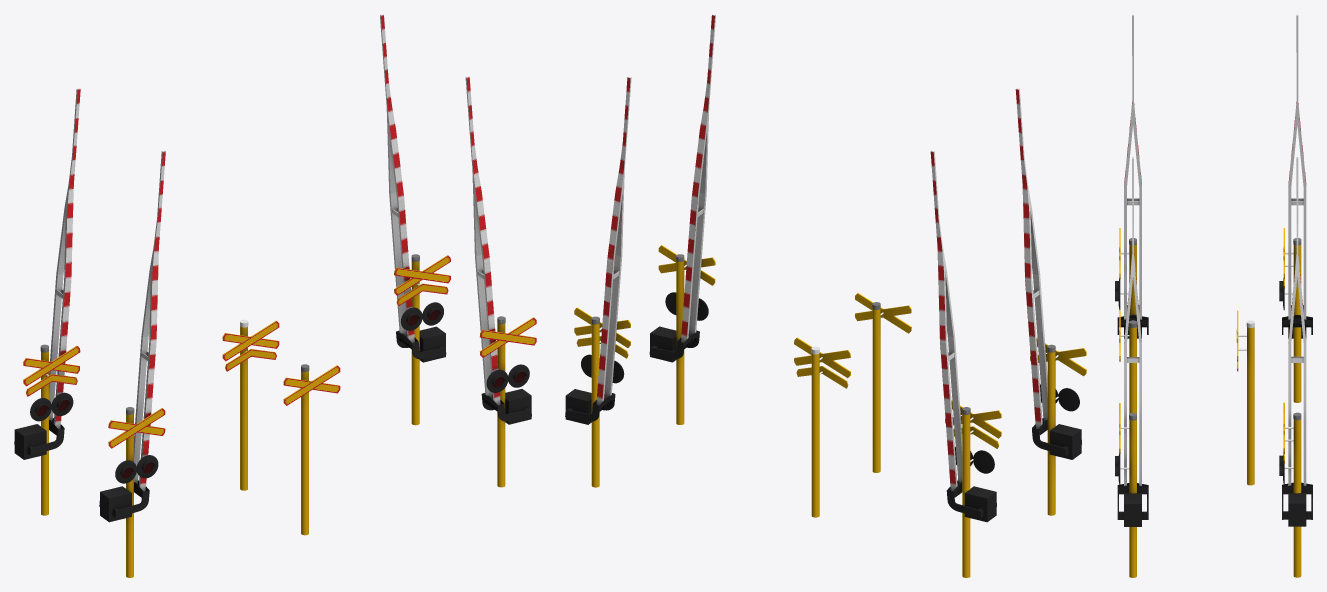
The model's file is palangkereta1.glb.
The picture shows the model from 3 angles, left to right: view 1: azimuth 30°, elevation 25°; view 2: azimuth 150°, elevation 25°; view 3: azimuth 270°, elevation 25°; orthographic projection. The views are drawn at different scales.
Visible parts, largest first — view 1: Cube.064, Cube.008, Cube.004, Cube.010, Cube.007, Cube.002, Cylinder.042, Cube.003, Cube.001, Cylinder.043, Cylinder.013, Cube.014 (+12 smaller); view 2: Cube.008, Cube.064, Cube.004, Cube.010, Cylinder.043, Cylinder.042, Cube.007, Cube.002, Cylinder, Cylinder.019, Cylinder.024, Cylinder.013 (+4 smaller); view 3: Cube.010, Cube.008, Cube.004, Cube.064, Cylinder.043, Cylinder.024, Cube.001, Cube.003, Cylinder.019, Cylinder.013, Cylinder.042, Cube.007 (+2 smaller).
Part boxes in pixels (<box>): Cube.064: <box>134,150,165,491</box>; Cube.008: <box>49,88,80,428</box>; Cube.004: <box>465,76,500,405</box>; Cube.010: <box>380,14,414,342</box>; Cube.007: <box>14,418,64,459</box>; Cube.002: <box>99,480,149,522</box>; Cylinder.042: <box>301,371,308,535</box>; Cube.003: <box>481,389,531,424</box>; Cube.001: <box>396,326,446,362</box>; Cylinder.043: <box>240,326,247,490</box>; Cylinder.013: <box>497,323,505,487</box>; Cube.014: <box>222,320,279,361</box>; Cube.008: <box>930,150,962,491</box>; Cube.064: <box>1015,88,1047,428</box>; Cube.004: <box>681,14,715,342</box>; Cube.010: <box>596,76,631,405</box>; Cylinder.043: <box>811,353,819,517</box>; Cylinder.042: <box>872,309,880,472</box>; Cube.007: <box>946,480,996,522</box>; Cube.002: <box>1032,418,1081,459</box>; Cylinder: <box>1047,351,1055,515</box>; Cylinder.019: <box>962,414,970,577</box>; Cylinder.024: <box>591,323,599,487</box>; Cylinder.013: <box>676,261,684,424</box>; Cube.010: <box>1288,157,1306,485</box>; Cube.008: <box>1288,14,1306,319</box>; Cube.004: <box>1124,157,1141,486</box>; Cube.064: <box>1124,14,1141,319</box>; Cylinder.043: <box>1247,327,1254,485</box>; Cylinder.024: <box>1293,419,1301,577</box>; Cube.001: <box>1282,482,1312,526</box>; Cube.003: <box>1117,483,1148,526</box>; Cylinder.019: <box>1293,245,1301,402</box>; Cylinder.013: <box>1129,419,1136,577</box>; Cylinder.042: <box>1129,327,1136,413</box>; Cube.007: <box>1282,305,1312,338</box>.
Bounding box in the file's own units: 12.38 × 11.54 × 5.14.
Materials: 18 (14 with a texture image).
